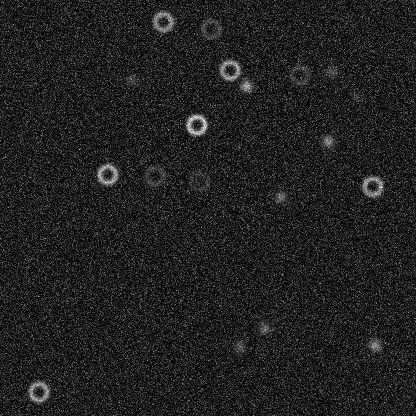Ring: (187, 168, 211, 192), (142, 163, 166, 187), (184, 112, 208, 136), (217, 58, 241, 82), (198, 16, 222, 40), (287, 62, 311, 86), (151, 9, 175, 33), (360, 174, 384, 198), (26, 379, 50, 403), (95, 162, 119, 186)
Spot: (366, 336, 382, 352), (123, 71, 139, 87), (348, 88, 364, 104), (256, 320, 272, 336), (323, 63, 339, 79), (272, 188, 288, 204), (320, 133, 336, 149), (238, 77, 254, 93), (231, 338, 247, 354)
